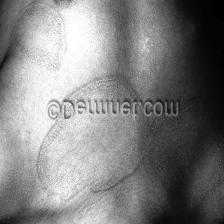Unclassified: (42, 80, 142, 200), (148, 99, 224, 214), (7, 5, 66, 72)
